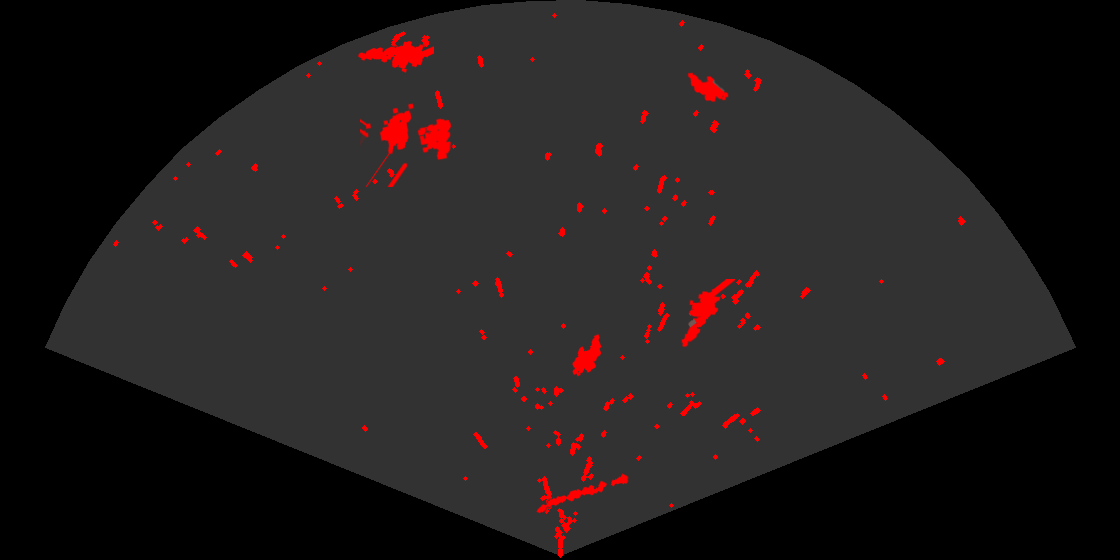AUV: (686, 71, 730, 104), (571, 333, 603, 378)
cage: (360, 102, 453, 187)
chain: (535, 472, 631, 515)
frogman: (680, 279, 735, 349), (357, 39, 434, 74)
